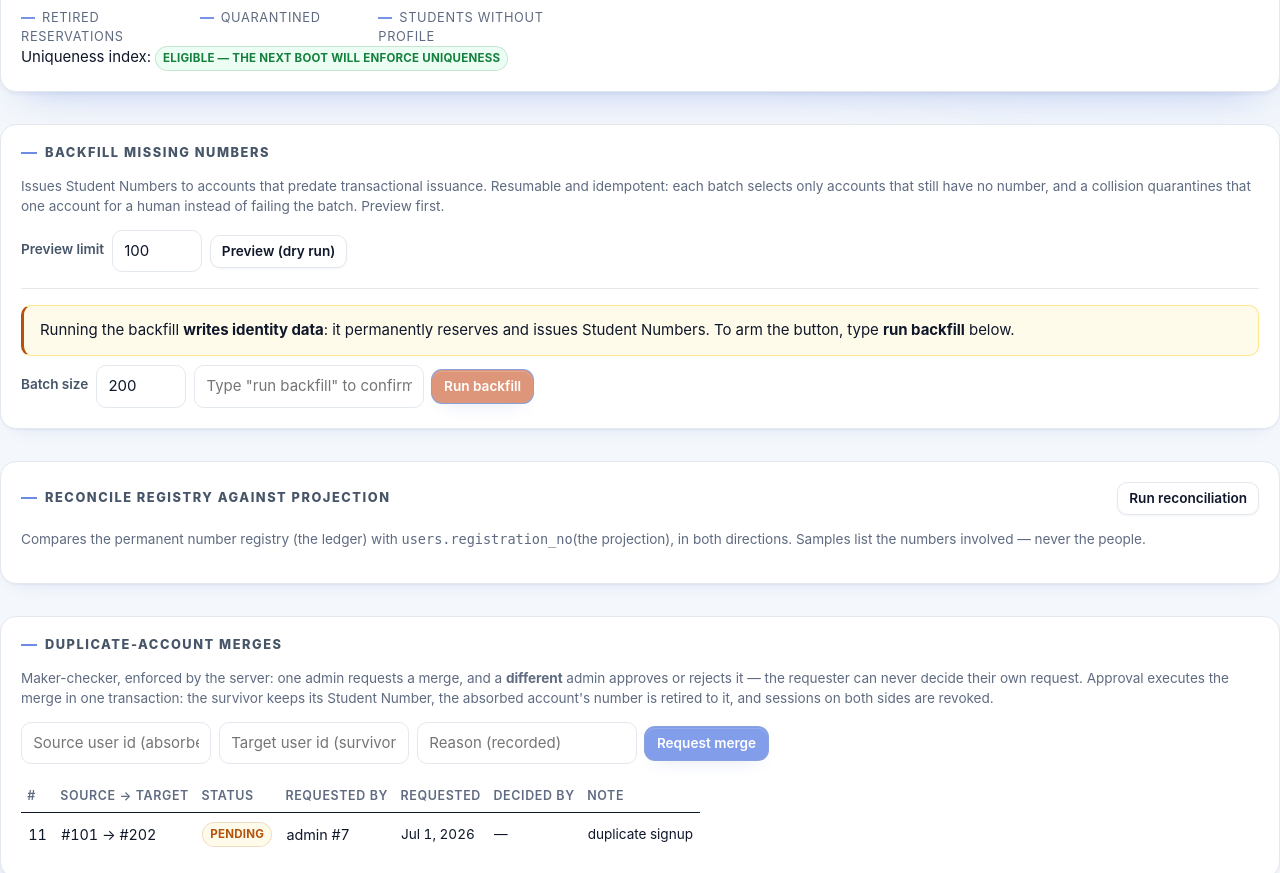
Scenario: merge queue (maker-checker) › approves with the note and reports the executed merge
(page scrolled)
Click the text "#101 → #202": click(125, 834) left=54, top=812, right=195, bottom=857
(page scrolled)
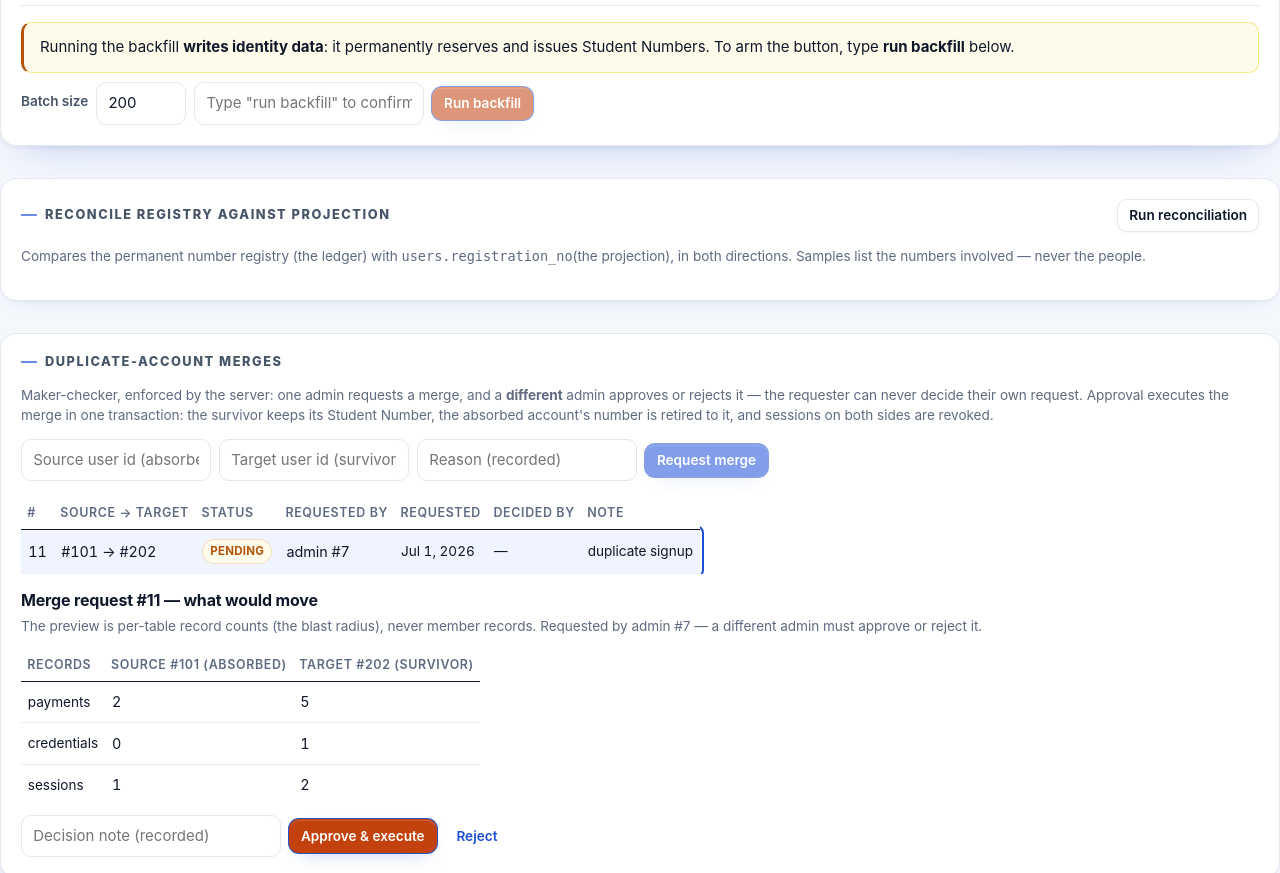
In the field labelled "Decision note": (151, 836) left=21, top=815, right=281, bottom=857, type "verified same person"
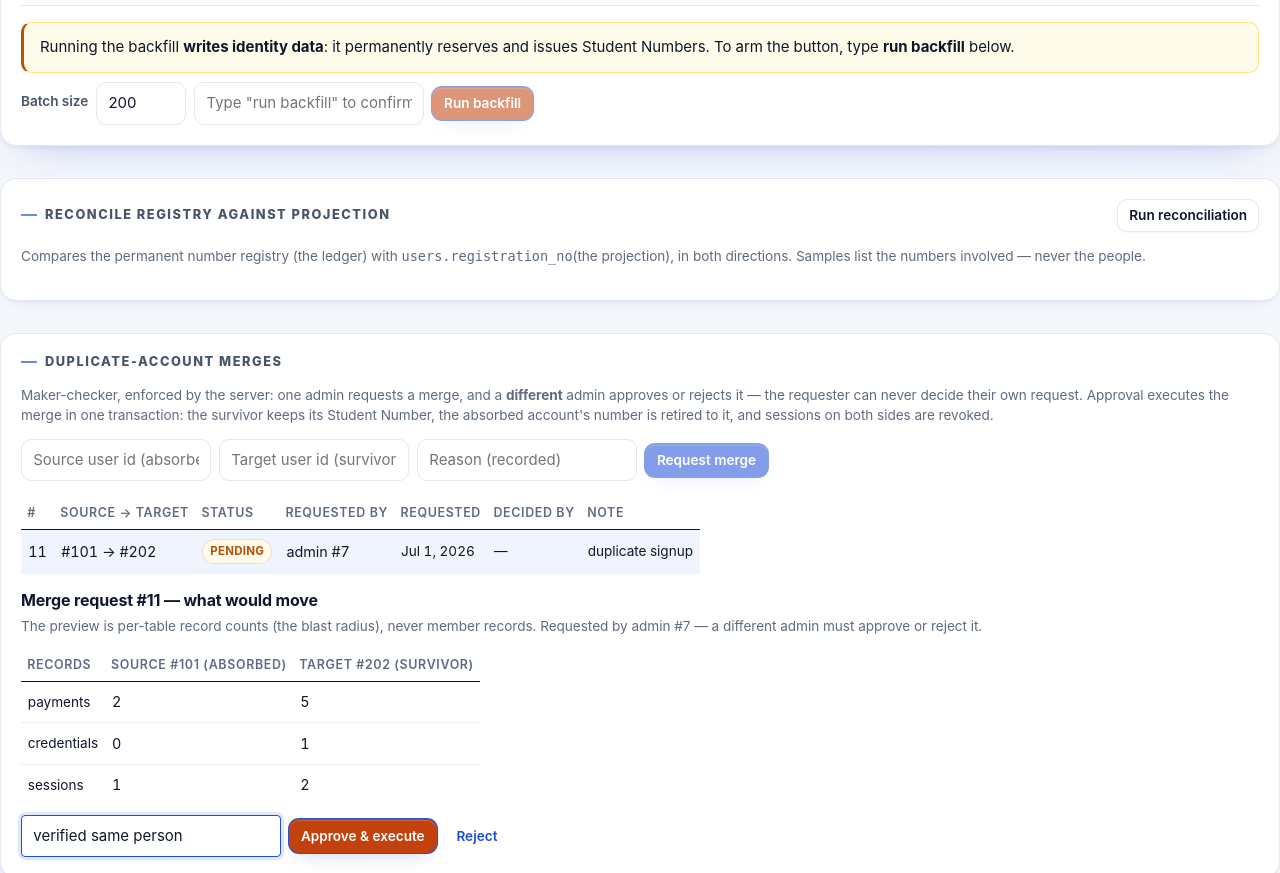
Click the button "Approve & execute": click(363, 836) left=289, top=819, right=436, bottom=853
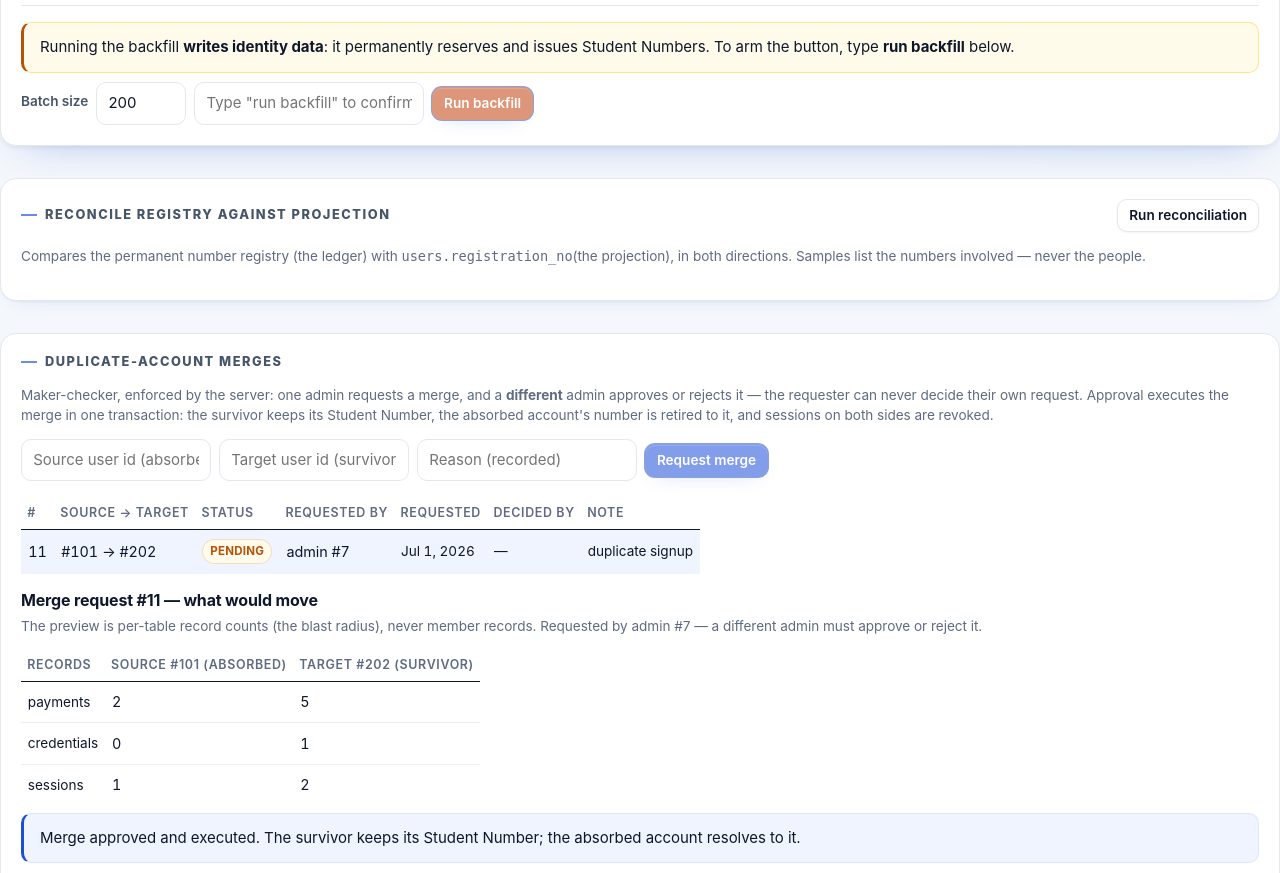
Result: the text "Merge approved and executed" is shown at left=40, top=828, right=801, bottom=847
